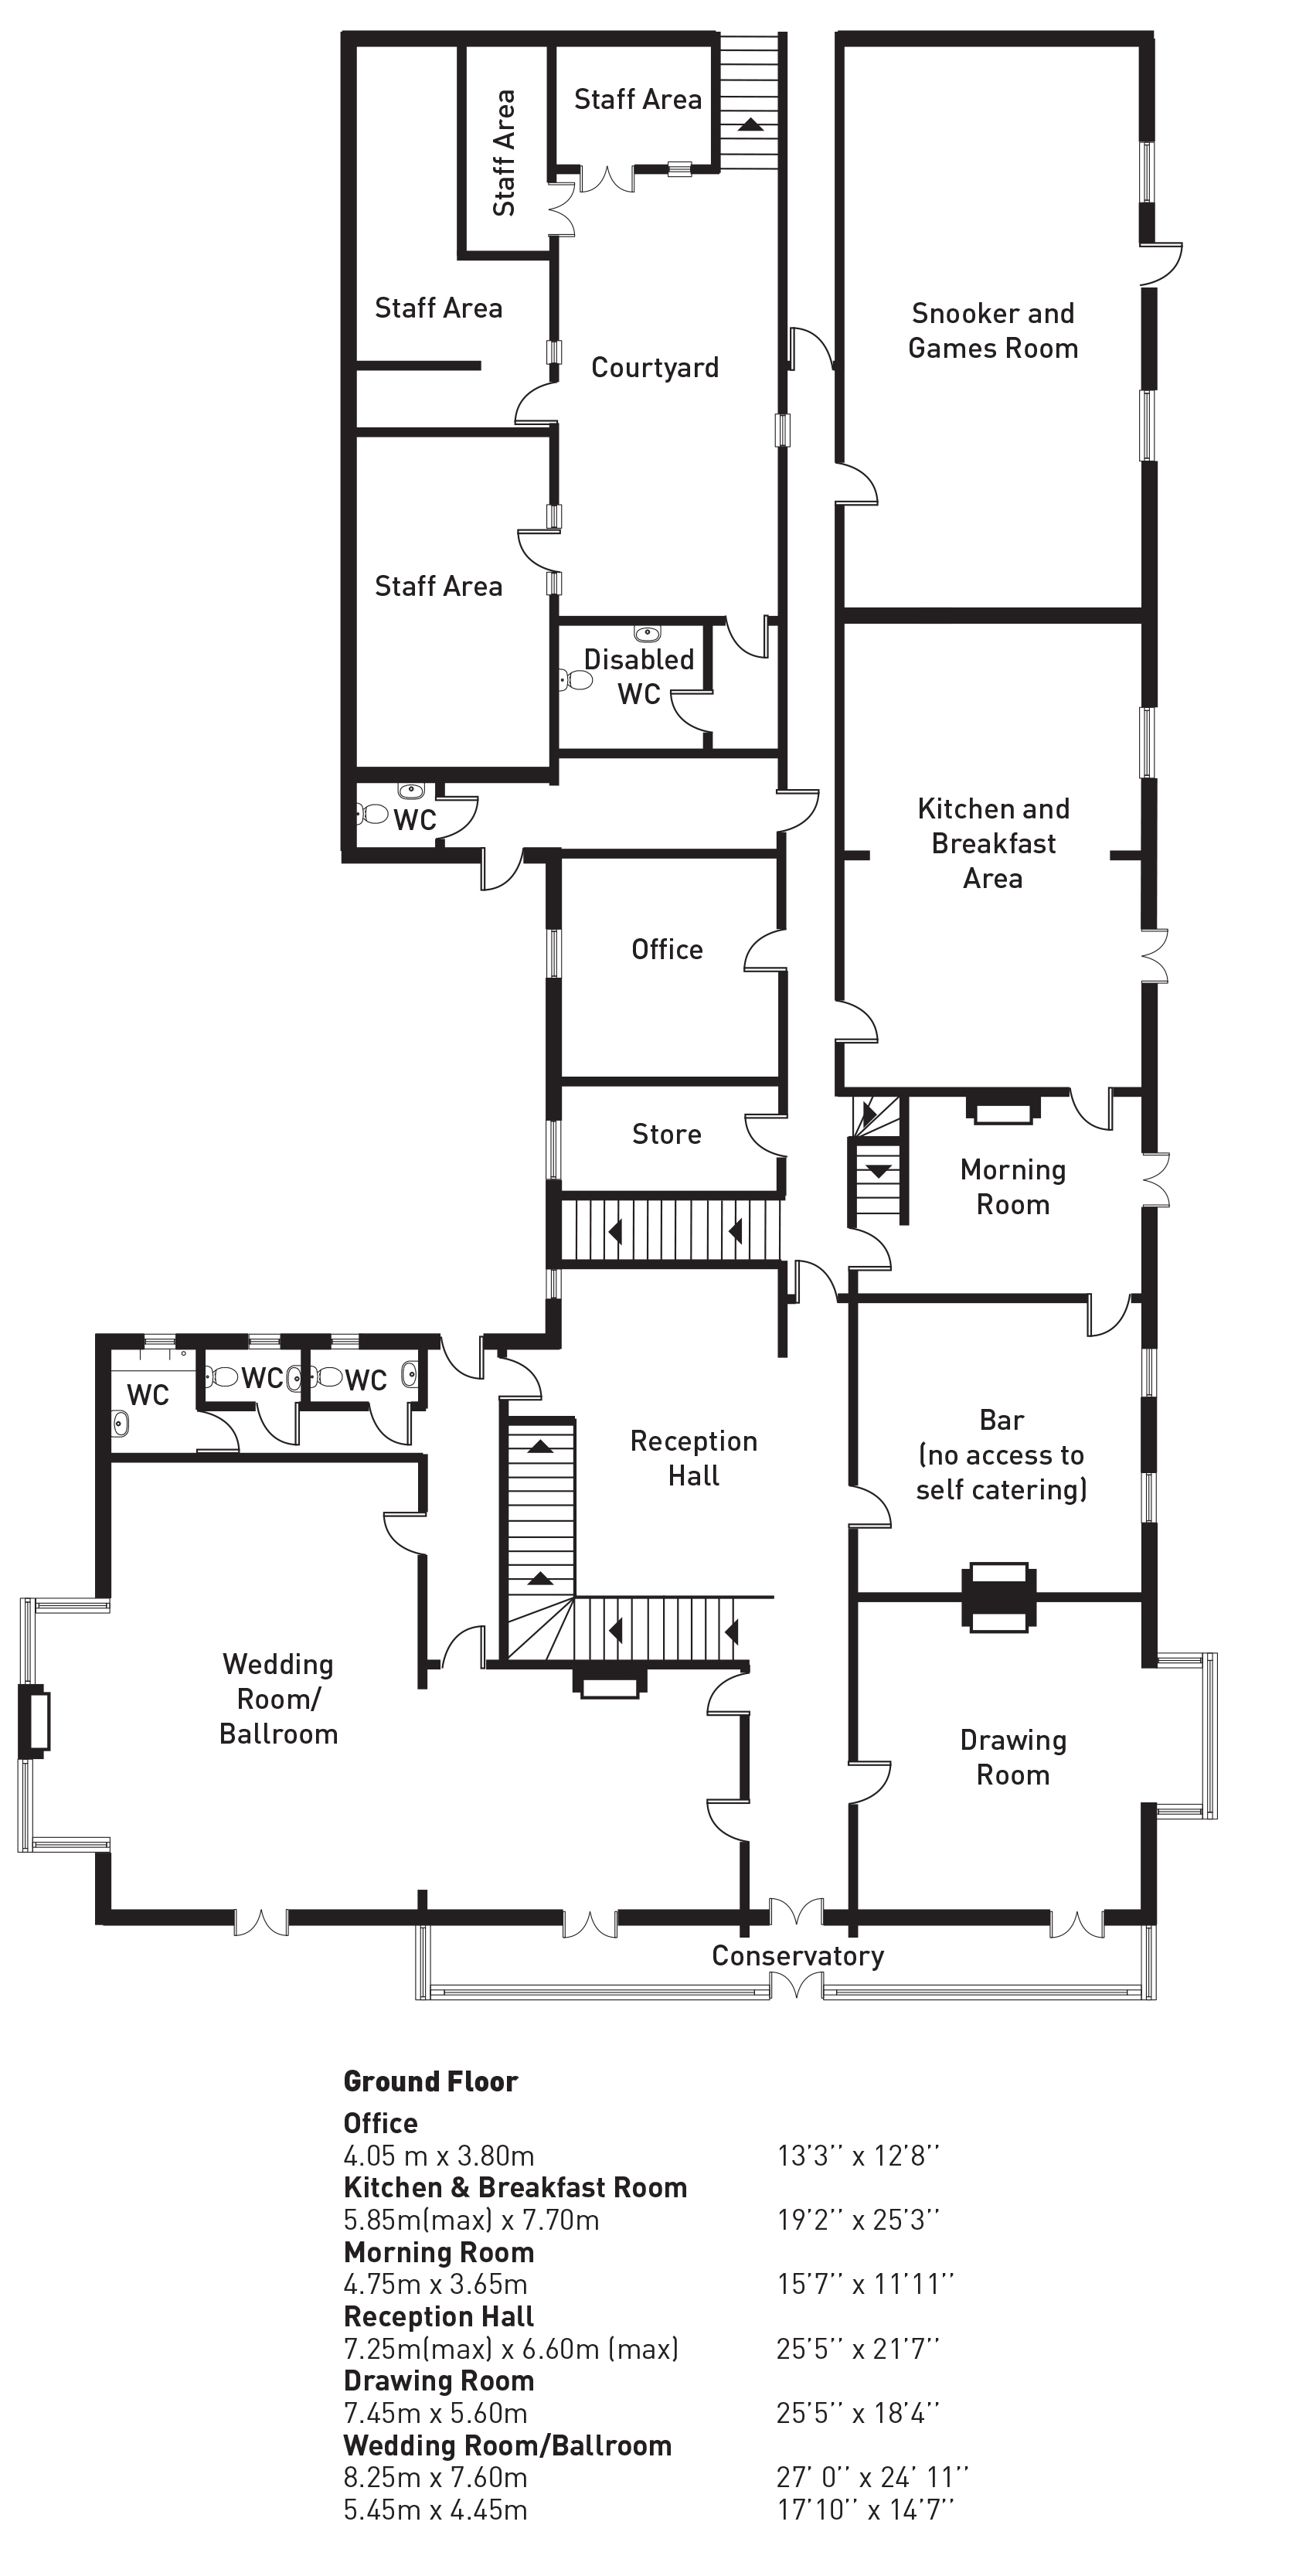room: (837, 31, 1159, 613), (89, 1448, 436, 1925), (837, 612, 1157, 1093), (848, 1588, 1159, 1928), (340, 427, 559, 779), (850, 1088, 1159, 1307), (547, 845, 792, 1093)
